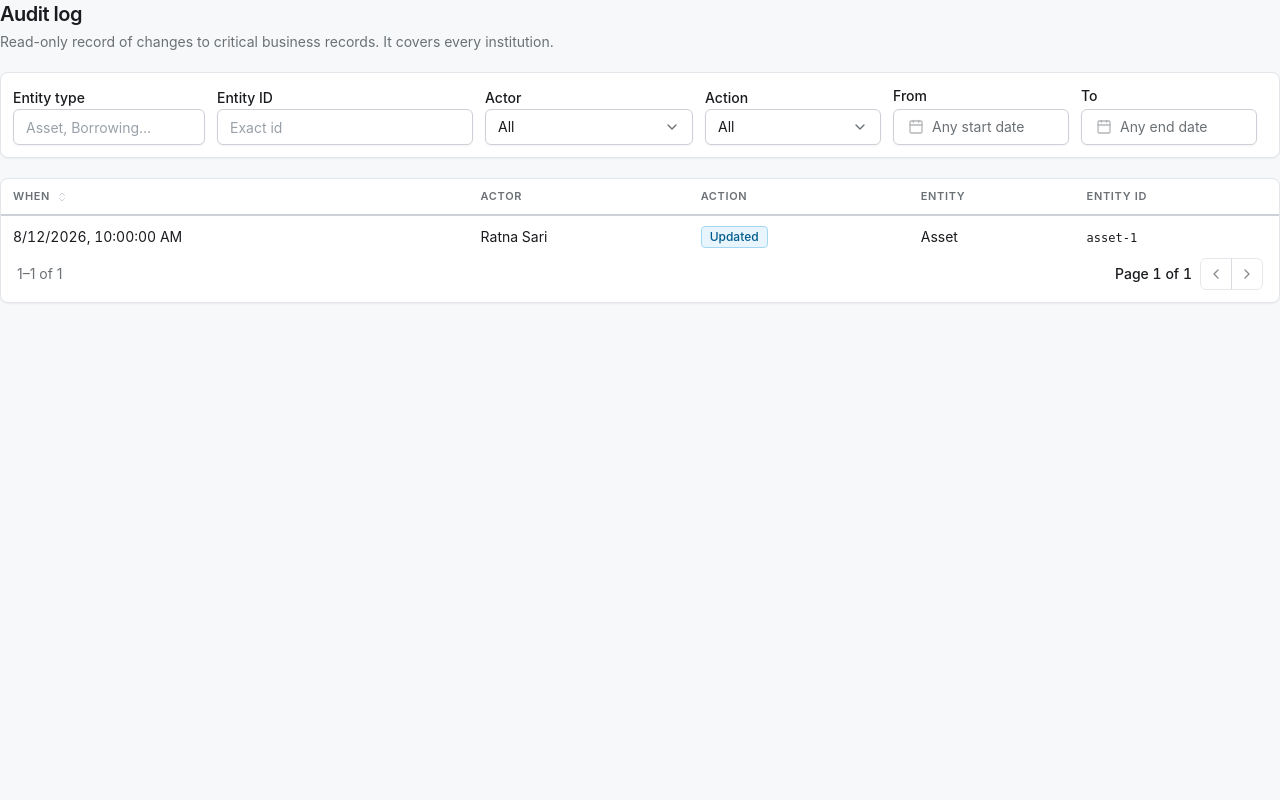
Test: AuditPage — detail (REQ-AUDIT-002) › surfaces a failure to load one entry
The width and height of the screenshot is (1280, 800).
Check: the text "Asset" is shown, box [909,215,1075,258]
Click the button "8/12/2026, 10:00:00 AM".
click(98, 237)  # box [13,227,182,247]
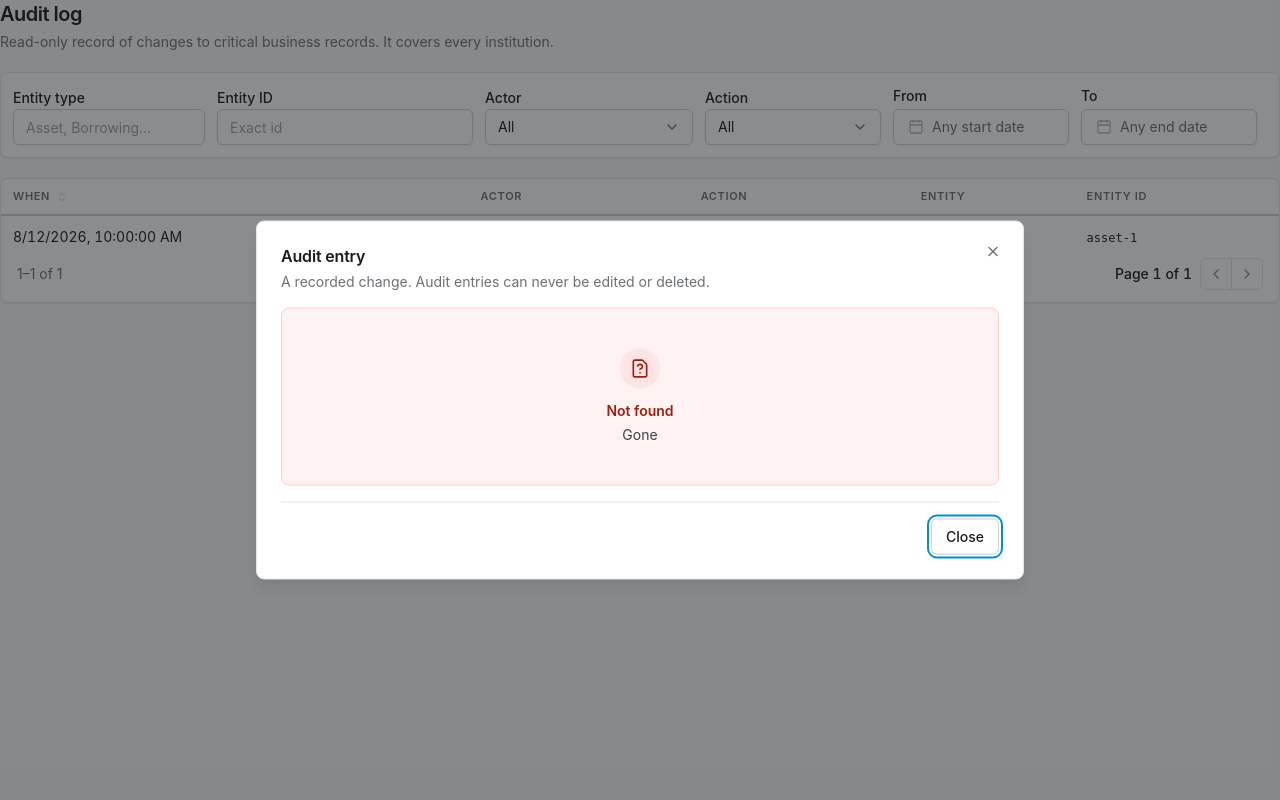
Check: the message "Not found Gone" is shown, box [281,308,999,486]
